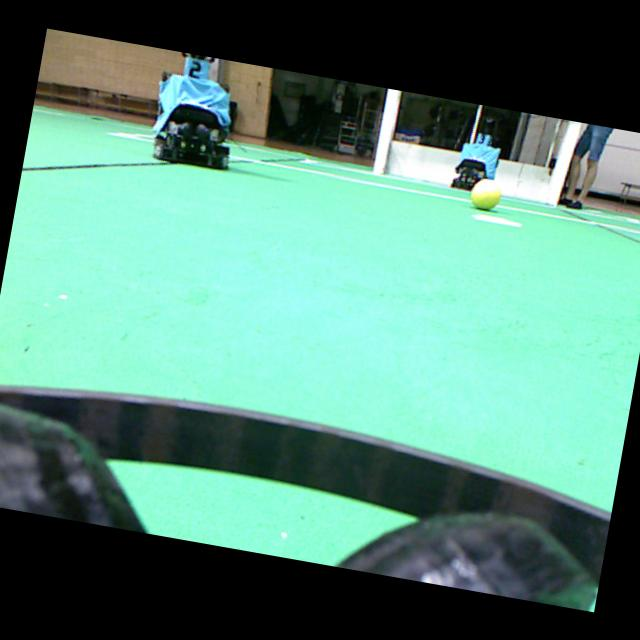ball: (470, 178, 500, 209)
goal: (546, 120, 580, 205), (372, 88, 400, 174)
